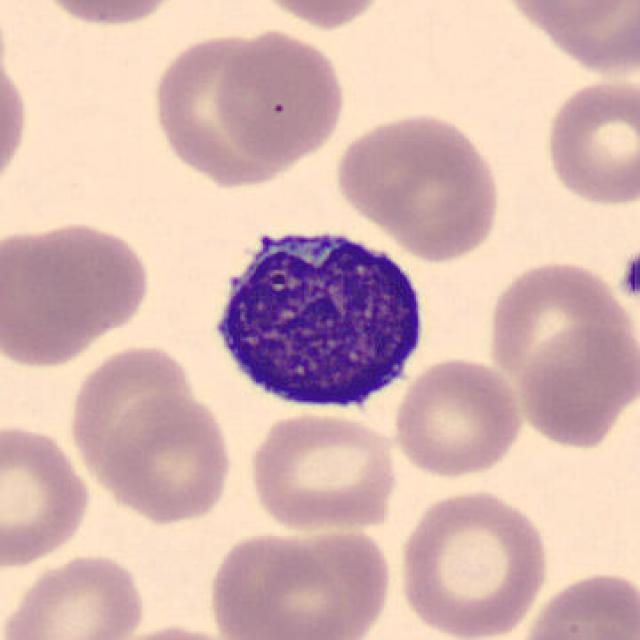Lymphocyte: (201, 211, 432, 418)
Platelets: (617, 250, 640, 304)
RBC: (330, 107, 507, 261), (147, 27, 306, 190), (395, 485, 553, 640), (0, 215, 155, 363), (202, 523, 394, 640), (64, 342, 201, 497), (482, 256, 633, 393), (245, 407, 402, 534), (212, 26, 350, 166), (95, 390, 236, 527), (391, 354, 526, 482), (512, 319, 638, 450), (0, 420, 94, 571), (540, 74, 640, 210), (0, 550, 151, 640), (516, 566, 636, 640), (528, 0, 640, 79), (492, 0, 638, 39), (25, 0, 192, 30), (0, 44, 32, 199), (240, 0, 395, 32), (97, 620, 247, 640), (519, 619, 638, 640)
